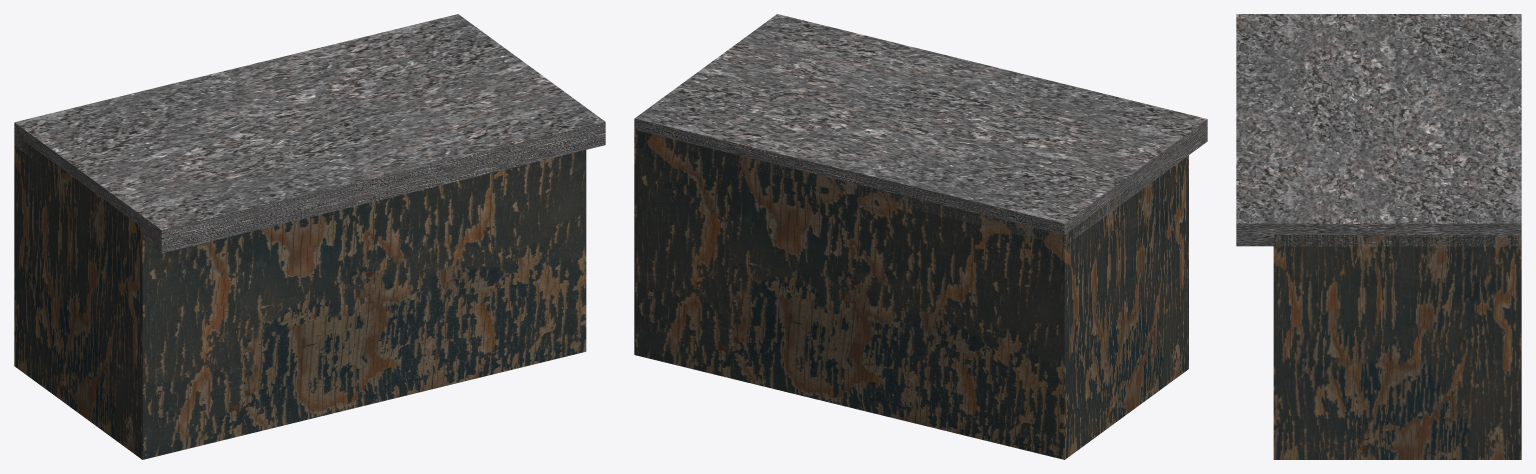
The model's file is Conuter.glb.
3 renders of one model, left to right at view 1: azimuth 30°, elevation 25°; view 2: azimuth 150°, elevation 25°; view 3: azimuth 270°, elevation 25°, orthographic. The views are drawn at different scales.
Parts seen in each view (by area): view 1: Cube, Cube.001; view 2: Cube, Cube.001; view 3: Cube.001, Cube.
Boxes of the visible parts, x1,y1,x2,y2 form: Cube: (14,137,586,459); Cube.001: (14,14,605,253); Cube: (634,130,1188,459); Cube.001: (634,14,1207,245); Cube.001: (1236,14,1521,246); Cube: (1273,235,1521,459).
Bounding box in the file's own units: 2 × 1.05 × 1.15.
2 materials, 2 textured.
